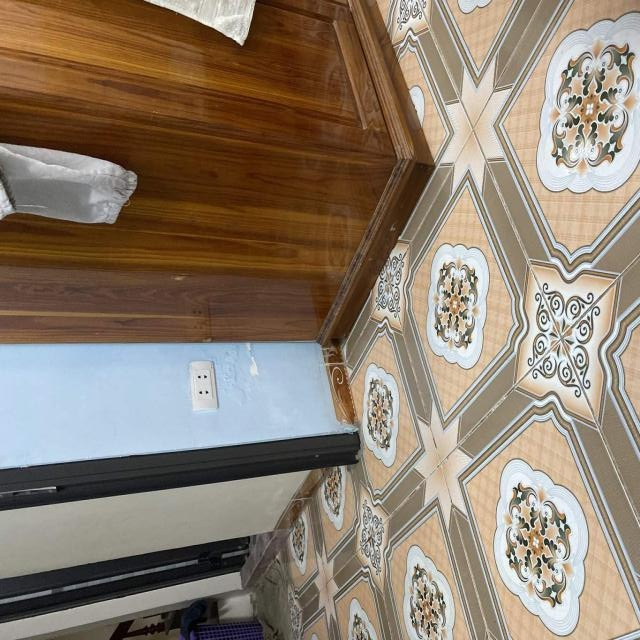outlet: (188, 361, 219, 411)
